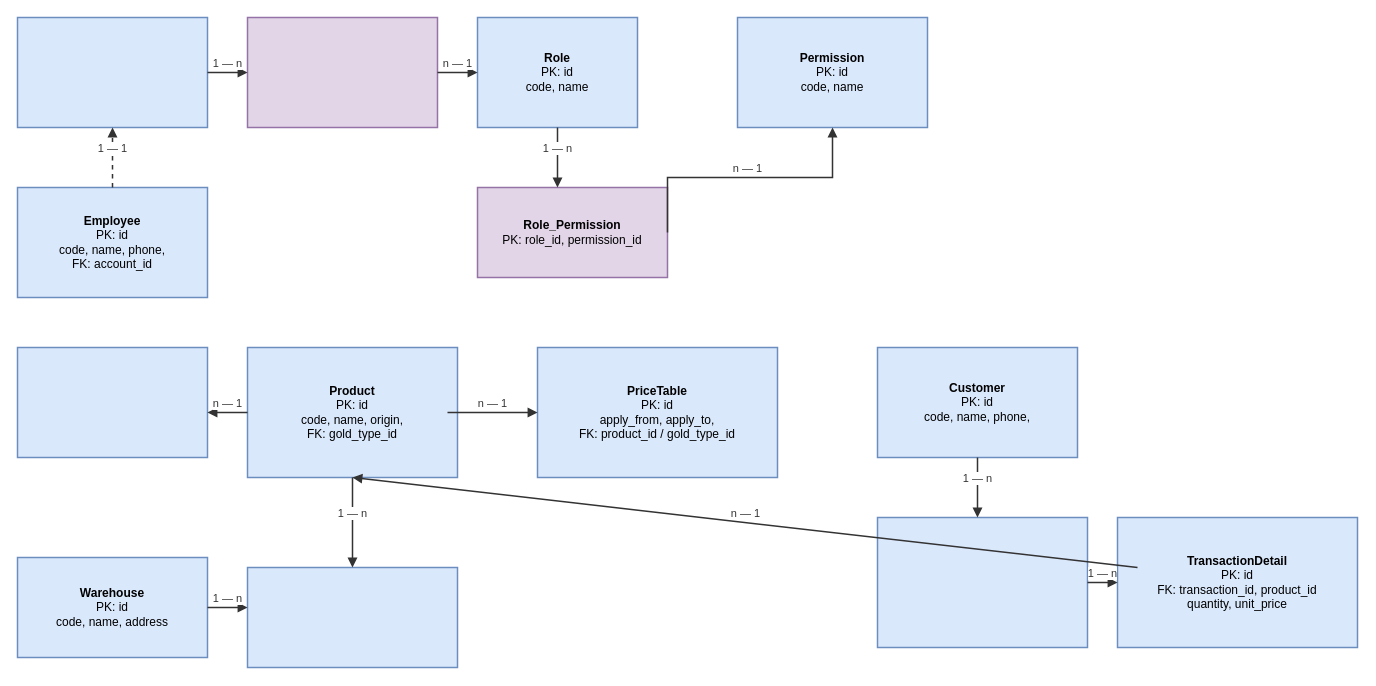
Image size: 1376x686. Some labels were removed from this diagram. Here are the shapes that lost their labels. From the top down, the centre of each, then its label:
At pixel 112 72: "Account PK: id username, password, enabled".
At pixel 342 72: "Account_Role PK: account_id, role_id".
At pixel 112 402: "GoldType PK: id code, name, khối lượng, hàm lượng".
At pixel 982 582: "Transaction PK: id code, total_amount, status, FK: customer_id, employee_id".
At pixel 352 617: "Inventory PK: product_id, warehouse_id quantity, số lượng đã bán".
